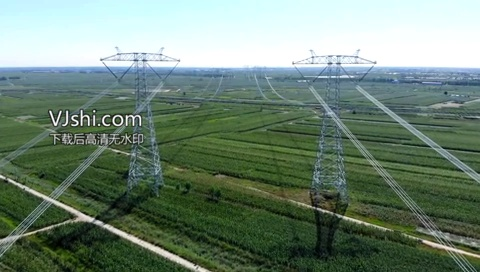tower_body: (289, 44, 383, 204)
tower_foot: (310, 160, 348, 200)
tower_head: (293, 48, 379, 69)
